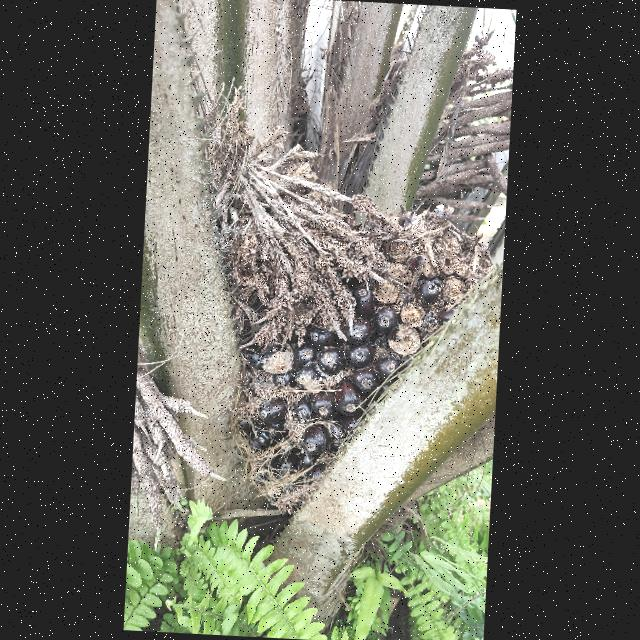Unripe: (240, 229, 478, 502)
